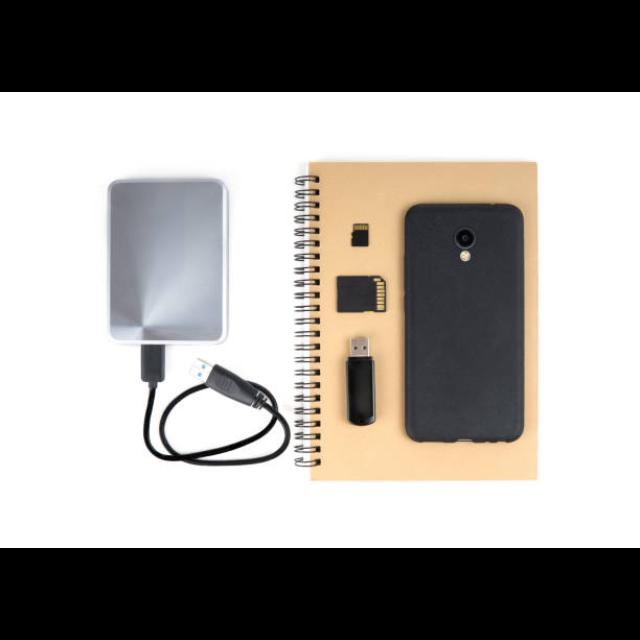HDD: (107, 178, 230, 348)
